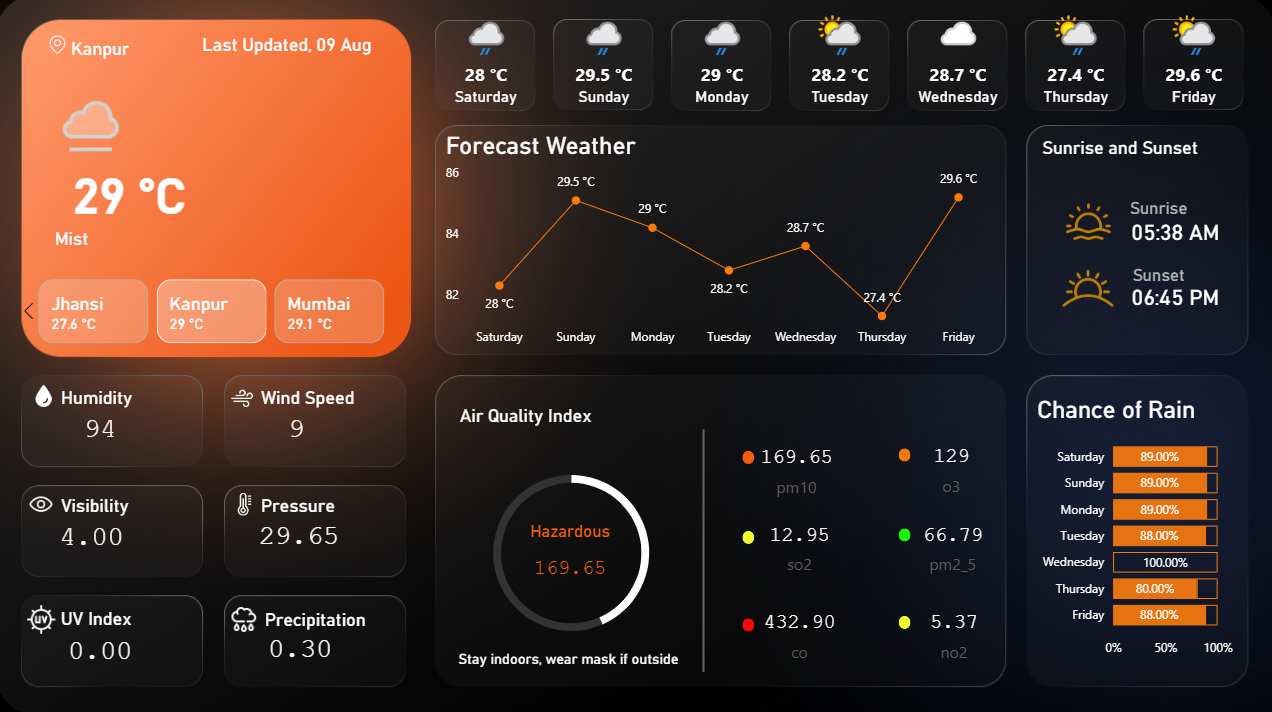

What the dashboard file says about the page in this screenshot:
{"tool":"powerbi","page":{"name":"Page 1","canvas":[1280,720],"ordinal":0},"visuals":[{"type":"advancedSlicerVisual","fields":{"Values":["Locations.location.name"]},"box":[18,278,396,74],"z":0},{"type":"shape","box":[39.8,171.5,186.6,54.9],"z":1000},{"type":"shape","box":[59,226.4,186.6,30.2],"z":2000},{"type":"shape","box":[75.5,35.7,93.3,30.2],"z":3000},{"type":"shape","box":[205.8,32.9,208.6,30.2],"z":4000},{"type":"image","box":[47.3,31.8,28.2,32.7],"z":5000},{"type":"cardVisual","fields":{"Data":["Min(current.current.condition.icon)"]},"box":[27,66,124.6,114.1],"z":6000},{"type":"shape","box":[64.4,384.4,74.4,30],"z":7000},{"type":"image","box":[24.5,488.2,40,37.3],"z":8000},{"type":"shape","box":[264.4,384.4,115.6,30],"z":9000},{"type":"shape","box":[64.5,493.6,74.5,30],"z":10000},{"type":"shape","box":[264.5,493.6,74.5,30],"z":11000},{"type":"shape","box":[64.5,606.4,74.5,30],"z":12000},{"type":"shape","box":[268.2,610.9,111.8,22.7],"z":13000},{"type":"image","box":[222.3,384.6,46.9,33.1],"z":14000},{"type":"image","box":[31.8,382.7,32.7,32.7],"z":15000},{"type":"image","box":[232.7,491.8,31.8,31.8],"z":16000},{"type":"image","box":[21.8,602.7,48.2,40],"z":17000},{"type":"image","box":[226.4,602.7,43.6,40],"z":18000},{"type":"card","fields":{"Values":["Sum(current.current.humidity)"]},"box":[40,401.7,128.3,58.3],"z":19000},{"type":"card","fields":{"Values":["Sum(current.current.wind_kph)"]},"box":[236.7,401.7,128.3,58.3],"z":20000},{"type":"card","fields":{"Values":["Sum(current.current.pressure_in)"]},"box":[238.3,508.3,128.3,58.3],"z":21000},{"type":"card","fields":{"Values":["Sum(current.current.uv)"]},"box":[40,623.3,128.3,58.3],"z":22000},{"type":"card","fields":{"Values":["Sum(current.current.precip_mm)"]},"box":[240,621.7,128.3,58.3],"z":23000},{"type":"card","fields":{"Values":["Sum(current.current.vis_km)"]},"box":[31.7,510,128.3,58.3],"z":24000},{"type":"advancedSlicerVisual","fields":{"Values":["forecast_day.Day_Name"]},"box":[430,5,830,118.3],"z":25000},{"type":"lineChart","title":"Forecast Weather","fields":{"Y":["Sum(forecast_day.forecast.forecastday.day.avgtemp_f)"],"Category":["forecast_day.Day_Name"]},"box":[445,135,553.3,223.3],"z":26000},{"type":"shape","box":[1046.7,135.6,187.8,30],"z":27000},{"type":"shape","box":[1123.3,213.3,111.1,41.1],"z":28000},{"type":"shape","box":[1123.3,277.8,111.1,44.4],"z":29000},{"type":"shape","box":[1123.3,194.4,77.8,31.1],"z":30000},{"type":"shape","box":[1123.3,262.2,77.8,31.1],"z":31000},{"type":"image","box":[1061.1,197.8,62.2,54.4],"z":32000},{"type":"image","box":[1050,252.2,84.4,77.8],"z":33000},{"type":"hundredPercentStackedBarChart","title":"Chance of Rain","fields":{"Y":["Sum(forecast_day.forecast.forecastday.day.daily_chance_of_rain)","_Measures.Left_Value_Rain"],"Category":["forecast_day.Day_Name"]},"box":[1036.7,398.9,205.6,270],"z":34000},{"type":"shape","box":[463.3,403.3,188.3,30],"z":35000},{"type":"card","fields":{"Values":["Sum(current.current.air_quality.pm10)"]},"box":[756.2,432.5,88.8,77.5],"z":36000},{"type":"card","fields":{"Values":["Sum(current.current.air_quality.o3)"]},"box":[912.5,431.2,86.2,77.5],"z":37000},{"type":"card","fields":{"Values":["Sum(current.current.air_quality.no2)"]},"box":[915,597.5,86.2,77.5],"z":38000},{"type":"card","fields":{"Values":["Sum(current.current.air_quality.pm2_5)"]},"box":[913.8,510,86.2,77.5],"z":39000},{"type":"card","fields":{"Values":["Sum(current.current.air_quality.so2)"]},"box":[762.5,510,82.5,77.5],"z":40000},{"type":"card","fields":{"Values":["Sum(current.current.air_quality.co)"]},"box":[762.5,597.5,82.5,77.5],"z":41000},{"type":"shape","box":[668.8,432.5,77.5,242.5],"z":43000},{"type":"shape","box":[746.7,453.3,12.2,13.3],"z":44001},{"type":"shape","box":[746.7,621.1,12.2,13.3],"z":44002},{"type":"shape","box":[746.7,533.3,12.2,13.3],"z":44003},{"type":"shape","box":[902.2,451.1,12.2,13.3],"z":44004},{"type":"shape","box":[902.2,531.1,12.2,13.3],"z":44005},{"type":"shape","box":[902.2,618.9,12.2,13.3],"z":44006},{"type":"card","fields":{"Values":["Sum(current.current.air_quality.pm10)"]},"box":[525,523.3,98.3,76.7],"z":44007},{"type":"donutChart","fields":{"Y":["_Measures.Left_value_PM10","Sum(current.current.air_quality.pm10)"]},"box":[463.3,453.3,223.3,205],"z":44008},{"type":"shape","box":[463,632,233,59],"z":44009}]}

Visuals, with their boxes in screenshot pixels (x1, y1, x2, y2), scaled from the page's 1280x720 canvas onto the 1272x712 screenshot:
advancedSlicerVisual - Locations.location.name: (18, 275, 411, 348)
shape: (40, 170, 225, 224)
shape: (59, 224, 244, 254)
shape: (75, 35, 168, 65)
shape: (205, 33, 412, 62)
image: (47, 31, 75, 64)
cardVisual - Min(current.current.condition.icon): (27, 65, 151, 178)
shape: (64, 380, 138, 410)
image: (24, 483, 64, 520)
shape: (263, 380, 378, 410)
shape: (64, 488, 138, 518)
shape: (263, 488, 337, 518)
shape: (64, 600, 138, 629)
shape: (267, 604, 378, 627)
image: (221, 380, 268, 413)
image: (32, 378, 64, 411)
image: (231, 486, 263, 518)
image: (22, 596, 70, 636)
image: (225, 596, 268, 636)
card - Sum(current.current.humidity): (40, 397, 167, 455)
card - Sum(current.current.wind_kph): (235, 397, 363, 455)
card - Sum(current.current.pressure_in): (237, 503, 364, 560)
card - Sum(current.current.uv): (40, 616, 167, 674)
card - Sum(current.current.precip_mm): (238, 615, 366, 672)
card - Sum(current.current.vis_km): (32, 504, 159, 562)
advancedSlicerVisual - forecast_day.Day_Name: (427, 5, 1252, 122)
"Forecast Weather" lineChart: (442, 134, 992, 354)
shape: (1040, 134, 1227, 164)
shape: (1116, 211, 1227, 252)
shape: (1116, 275, 1227, 319)
shape: (1116, 192, 1194, 223)
shape: (1116, 259, 1194, 290)
image: (1054, 196, 1116, 249)
image: (1043, 249, 1127, 326)
"Chance of Rain" hundredPercentStackedBarChart: (1030, 394, 1235, 661)
shape: (460, 399, 648, 428)
card - Sum(current.current.air_quality.pm10): (751, 428, 840, 504)
card - Sum(current.current.air_quality.o3): (907, 426, 992, 503)
card - Sum(current.current.air_quality.no2): (909, 591, 995, 668)
card - Sum(current.current.air_quality.pm2_5): (908, 504, 994, 581)
card - Sum(current.current.air_quality.so2): (758, 504, 840, 581)
card - Sum(current.current.air_quality.co): (758, 591, 840, 668)
shape: (665, 428, 742, 668)
shape: (742, 448, 754, 461)
shape: (742, 614, 754, 627)
shape: (742, 527, 754, 541)
shape: (897, 446, 909, 459)
shape: (897, 525, 909, 538)
shape: (897, 612, 909, 625)
card - Sum(current.current.air_quality.pm10): (522, 517, 619, 593)
donutChart - _Measures.Left_value_PM10 x Sum(current.current.air_quality.pm10): (460, 448, 682, 651)
shape: (460, 625, 692, 683)
